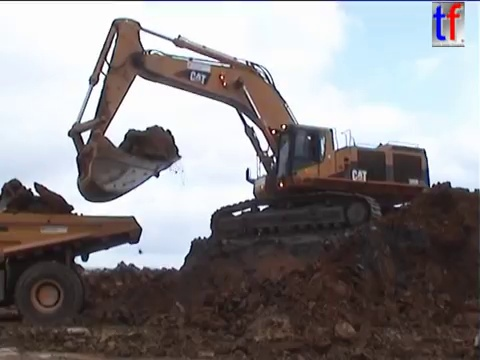excavator: (64, 14, 436, 248)
truck: (1, 207, 146, 333)
